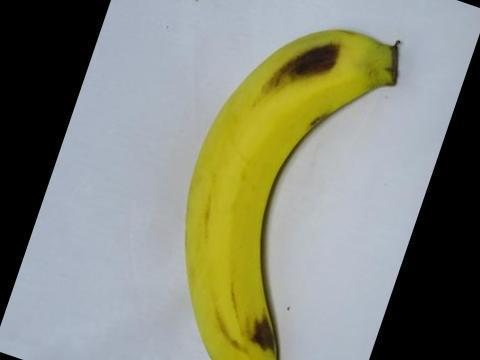freshripe: (167, 16, 410, 359)
